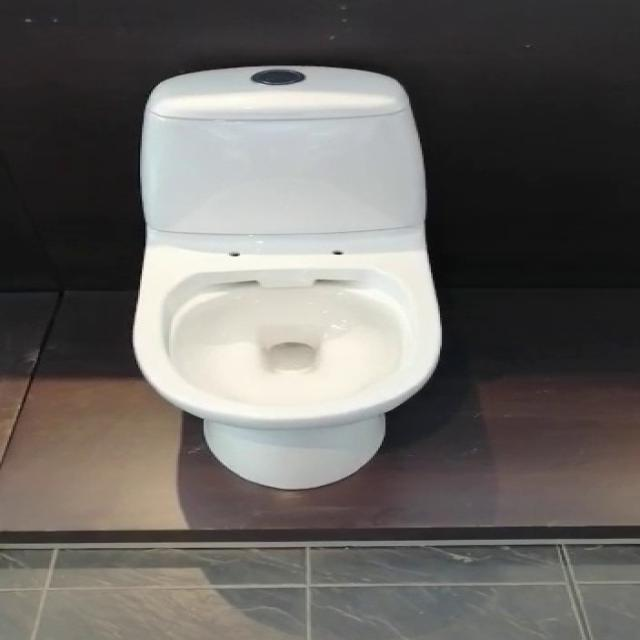toilet: (118, 60, 455, 492)
